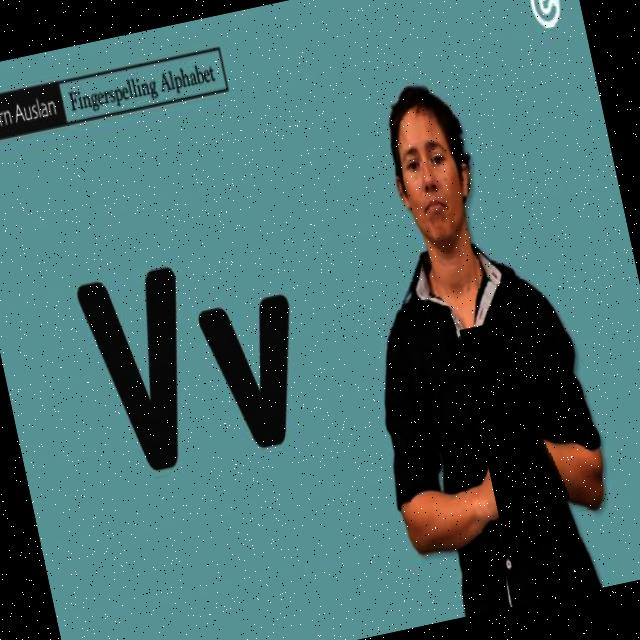V: (452, 318, 563, 525)
